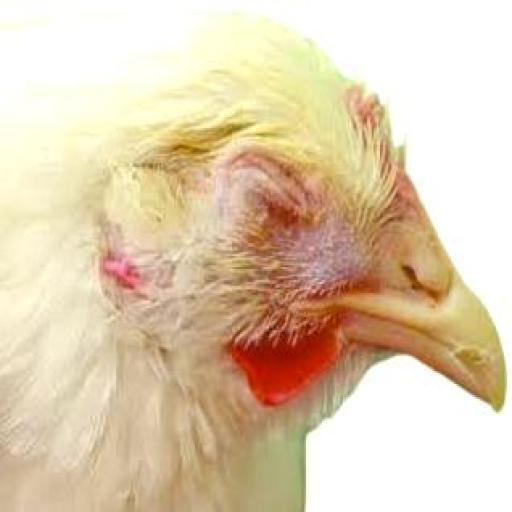disease: (226, 120, 332, 236), (99, 220, 178, 308)
